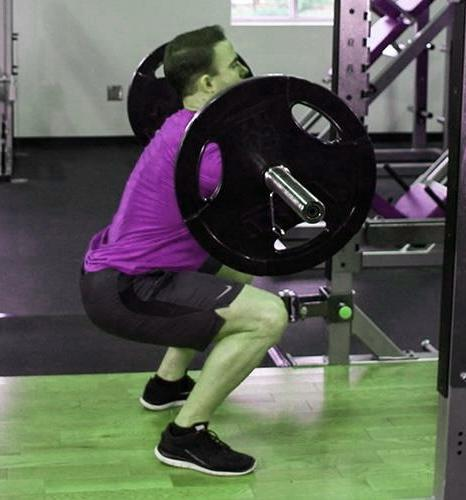Barbell: (298, 200, 325, 224)
